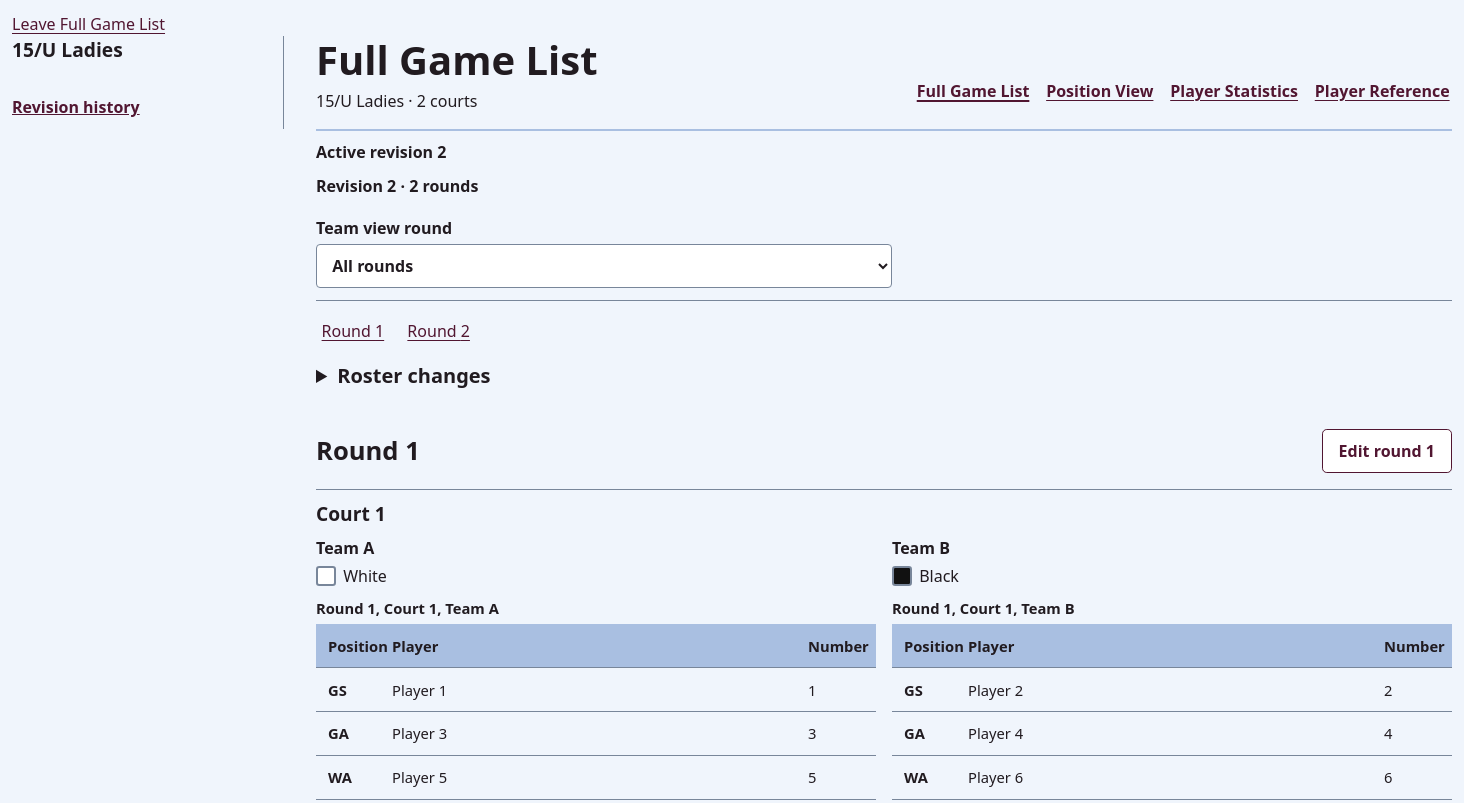
Test: FullGameListPage › opens revision history as a read-only view
The image size is (1464, 803).
Click the button "Revision history": x=76, y=107 [12,85,140,129]
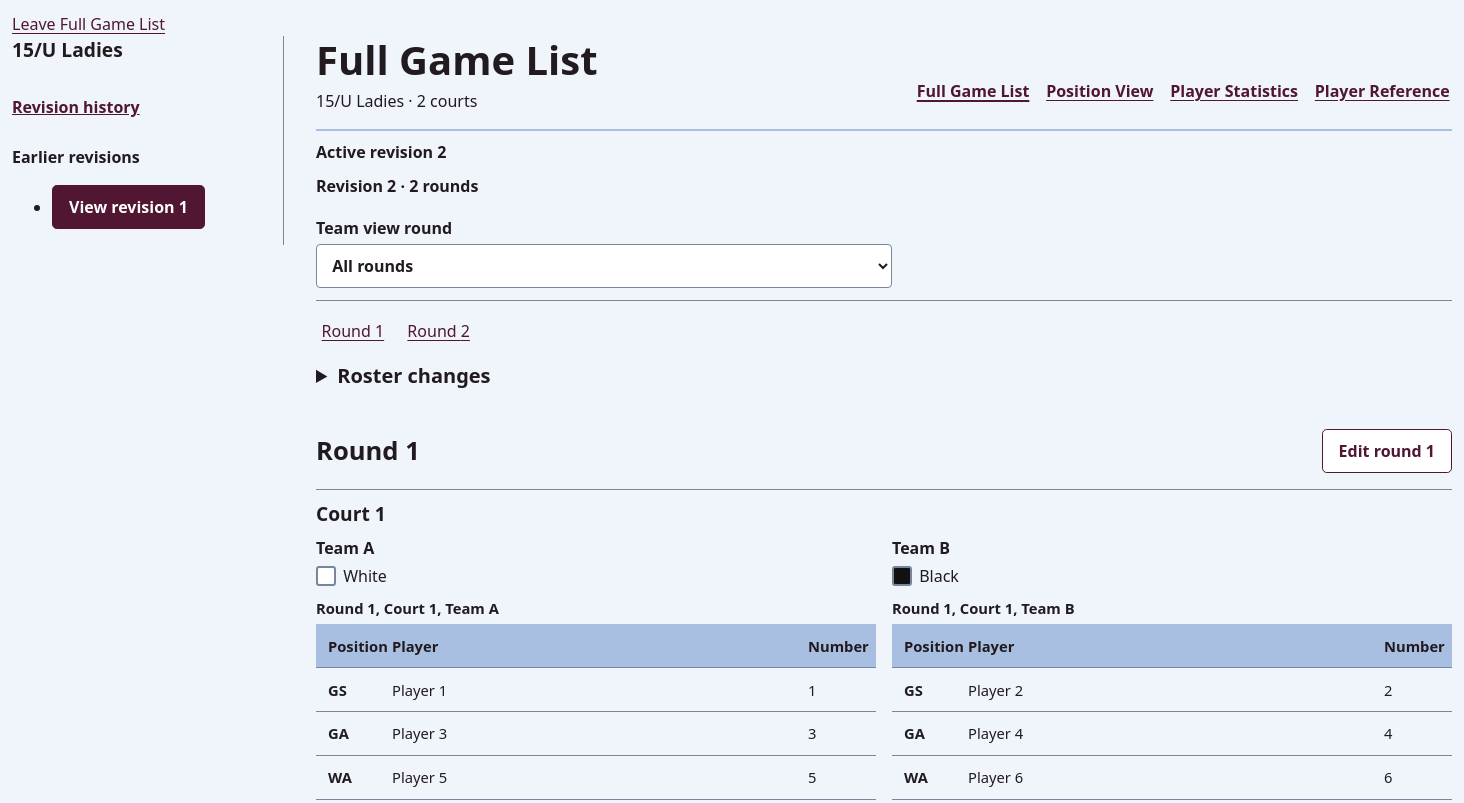
Click the button "View revision 1": x=128, y=207 [52,185,205,229]
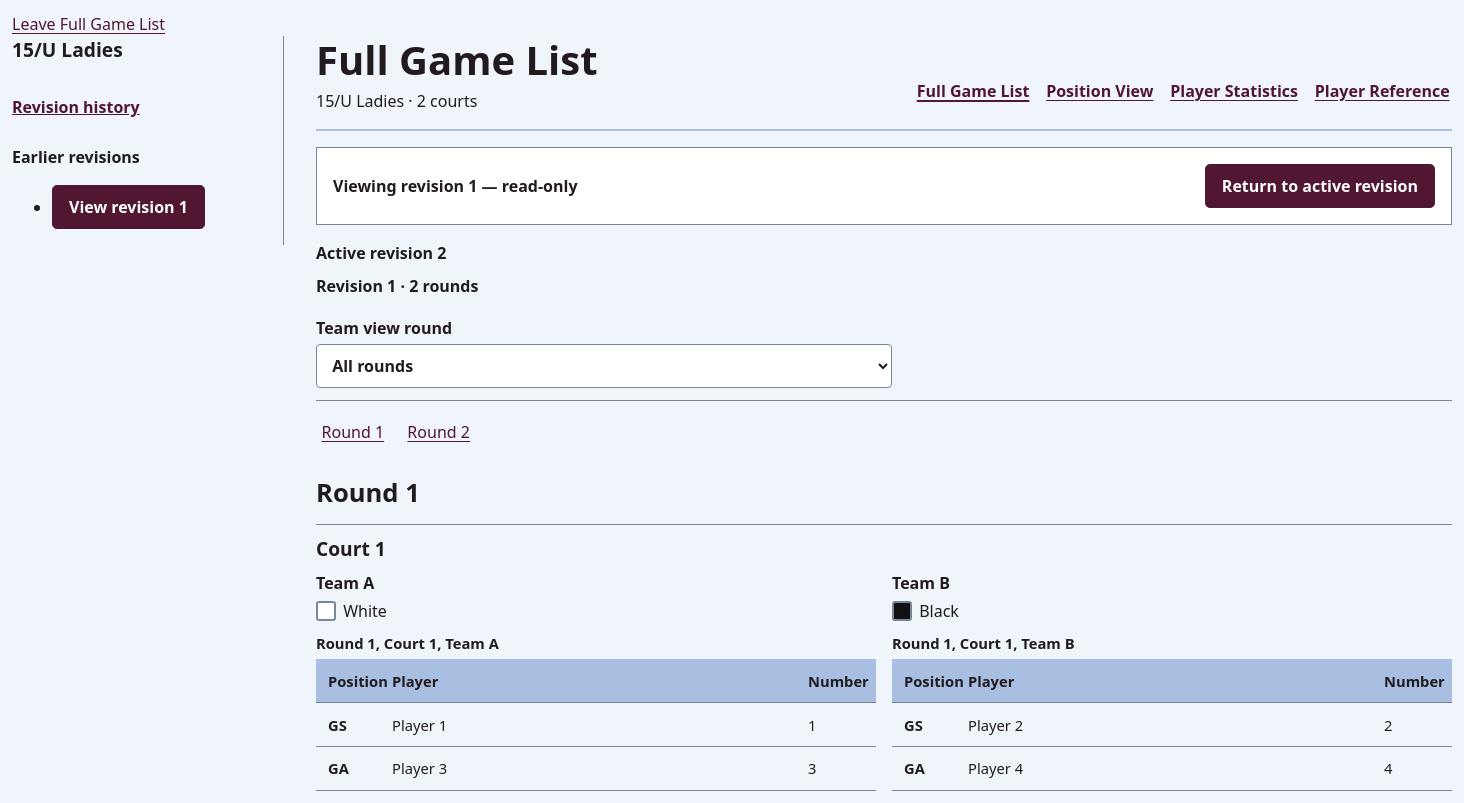
Check: the text "Viewing revision 1 — read-only" is shown, box [333,174,578,198]
Check: the button "Edit round 1" is gone
Check: the button "Return to active revision" is shown, box [1205,164,1435,208]
